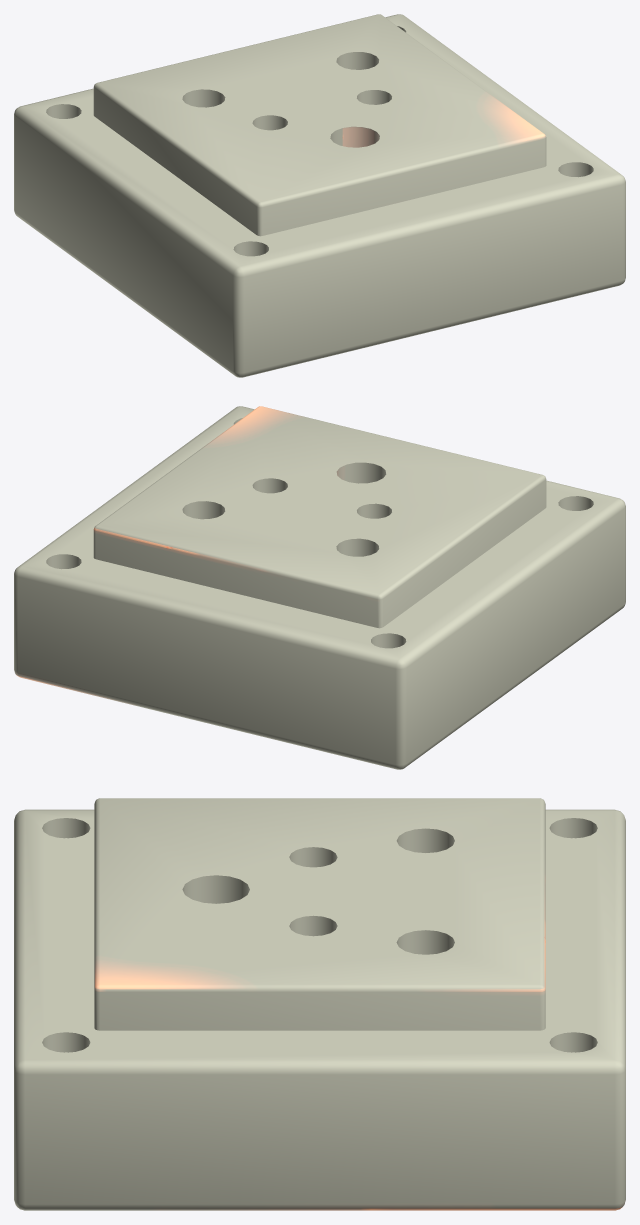
The model's file is Socket_C.fbx.
The picture shows the model from 3 angles, top to bottom: view 1: azimuth 30°, elevation 25°; view 2: azimuth 150°, elevation 25°; view 3: azimuth 270°, elevation 25°; orthographic projection. The views are drawn at different scales.
Visible parts, largest first — view 1: Socket_C; view 2: Socket_C; view 3: Socket_C.
Boxes of the visible parts, <box> form: Socket_C: <box>14,14,625,377</box>; Socket_C: <box>14,406,625,769</box>; Socket_C: <box>14,798,625,1210</box>.
Size of the model in its own units: 30.16 by 10.52 by 30.16.
1 material, 1 textured.
